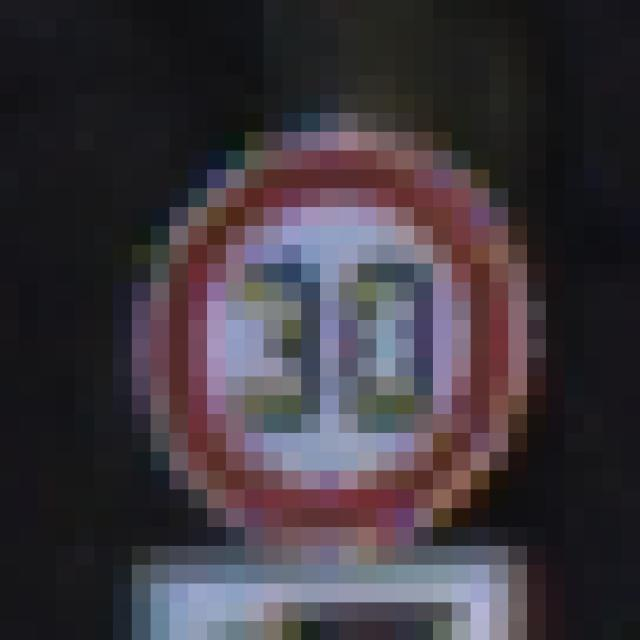Speed Limit -30-: (84, 84, 536, 536)
